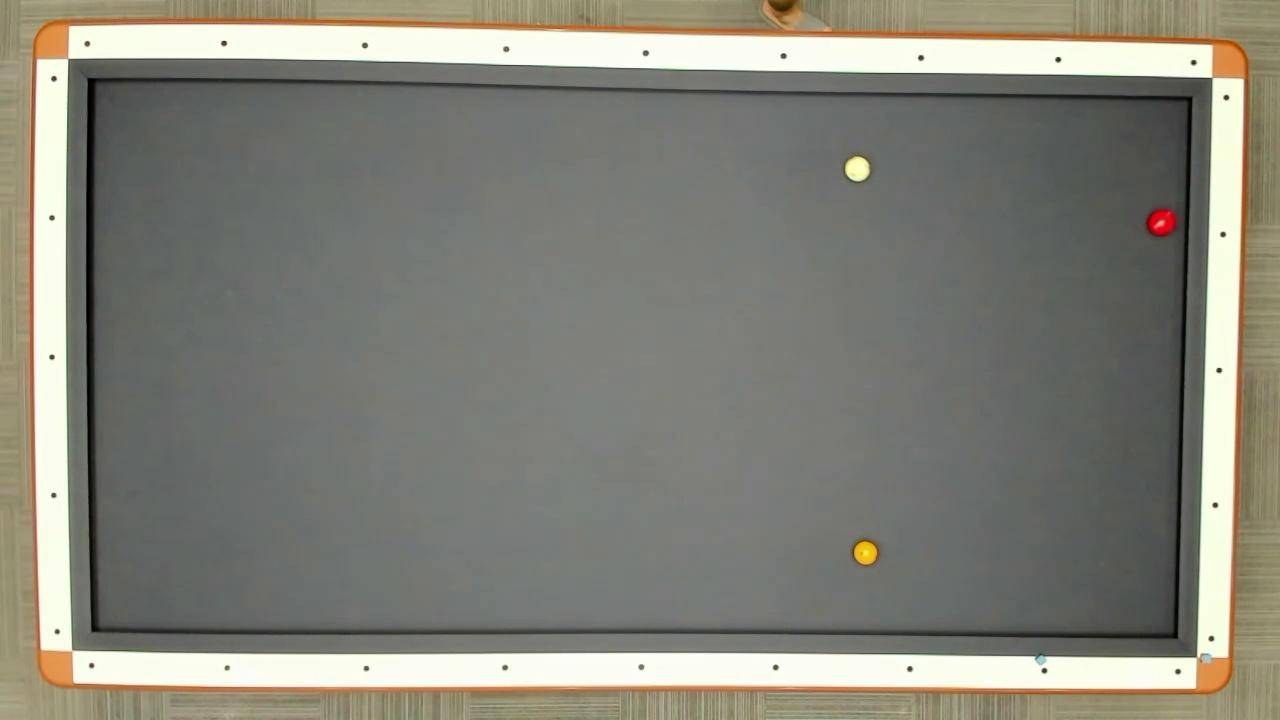Red: (1146, 207, 1178, 238)
White: (842, 154, 872, 184)
Yellow: (851, 538, 881, 567)
